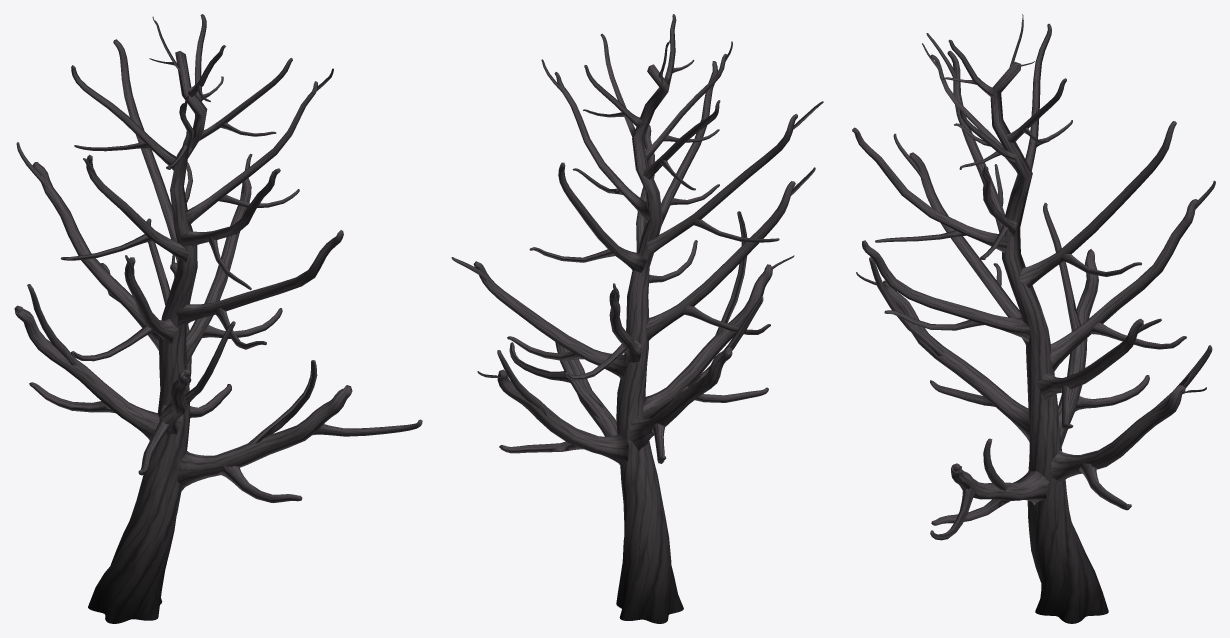
File: DeadTree_2.gltf
3 renders of one model, left to right at view 1: azimuth 30°, elevation 25°; view 2: azimuth 150°, elevation 25°; view 3: azimuth 270°, elevation 25°, orthographic. The views are drawn at different scales.
Parts seen in each view (by area): view 1: DeadTree_2; view 2: DeadTree_2; view 3: DeadTree_2.
Part boxes in pixels (x1,y1,x2,y2): DeadTree_2: [14, 14, 422, 623]; DeadTree_2: [451, 14, 823, 623]; DeadTree_2: [852, 14, 1215, 623].
Bounding box in the file's own units: 6.73 × 11.49 × 6.38.
Materials: 1 (1 with a texture image).
